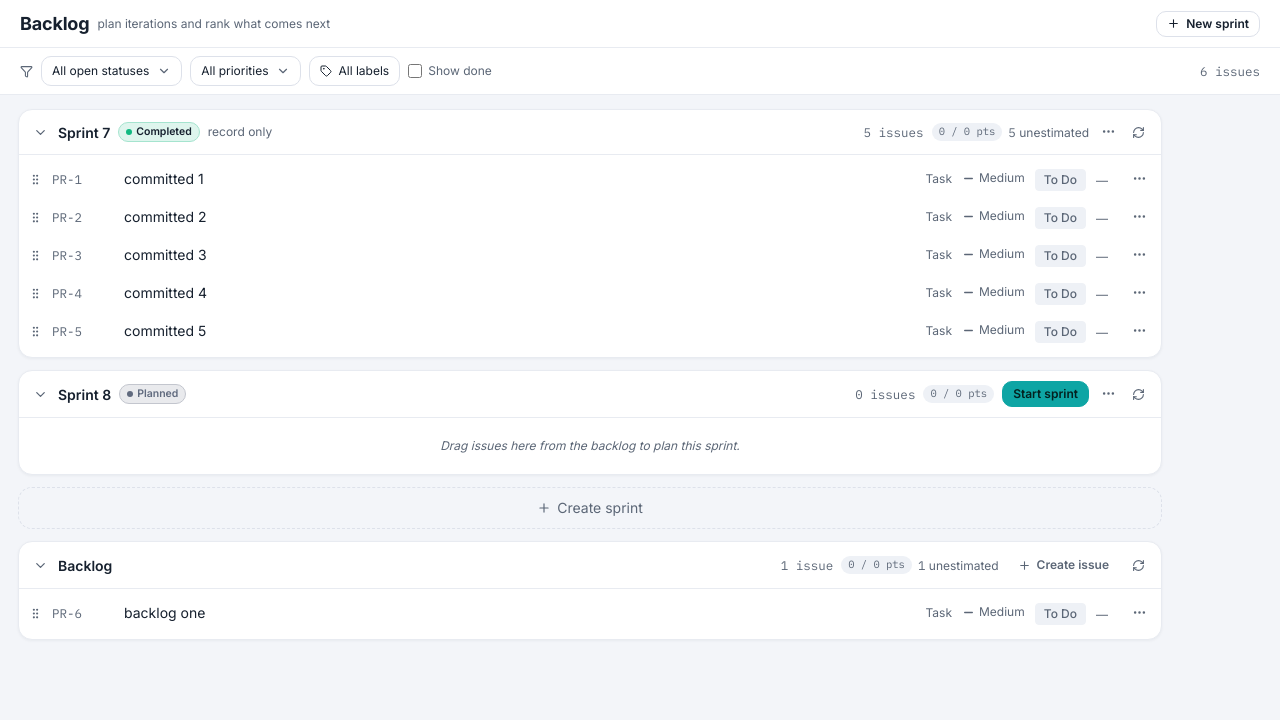
Test case: BacklogPage — a COMPLETED sprint is frozen (0.13.0 review, security-officer L1) › keeps it out of every other section's move targets
The width and height of the screenshot is (1280, 720).
Expected: the text "Sprint 7" is shown, [58,122,110,142]
Click the button named "Move PR-6".
click(1140, 612)  # box [1128,601,1151,624]
(page scrolled)
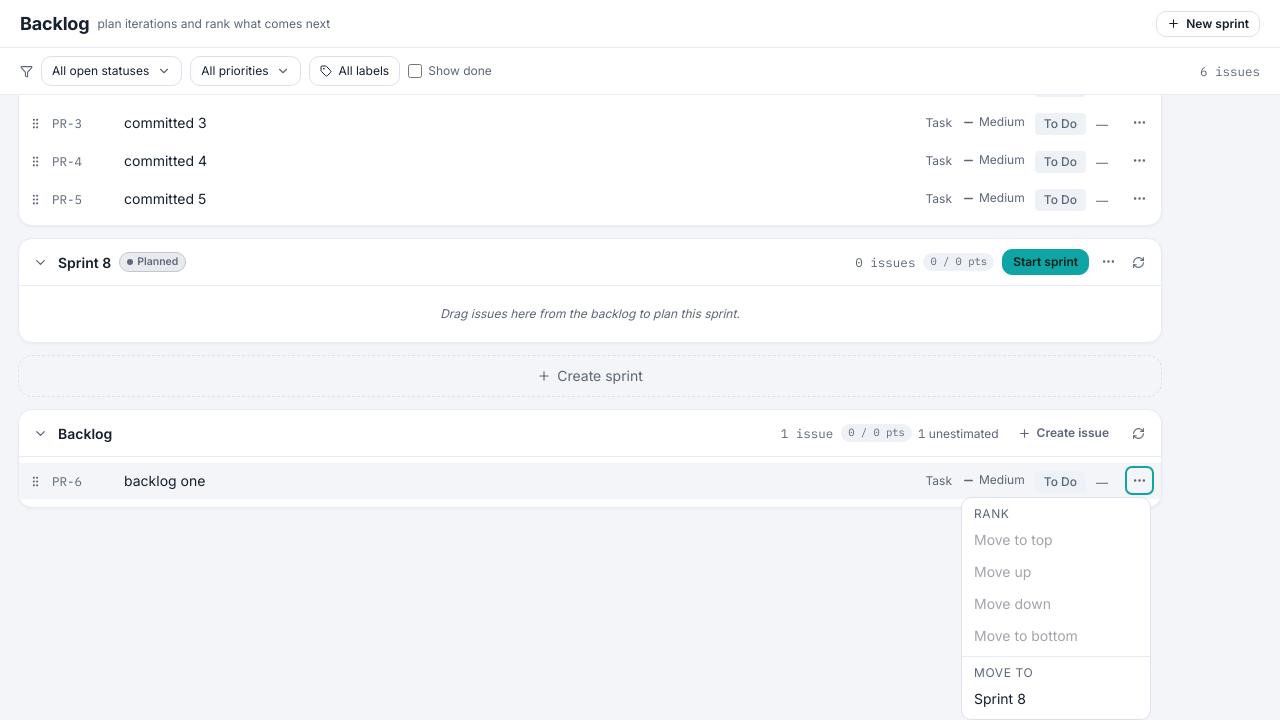
Now the menu item "Sprint 8" is shown, box [962,683,1150,715]
